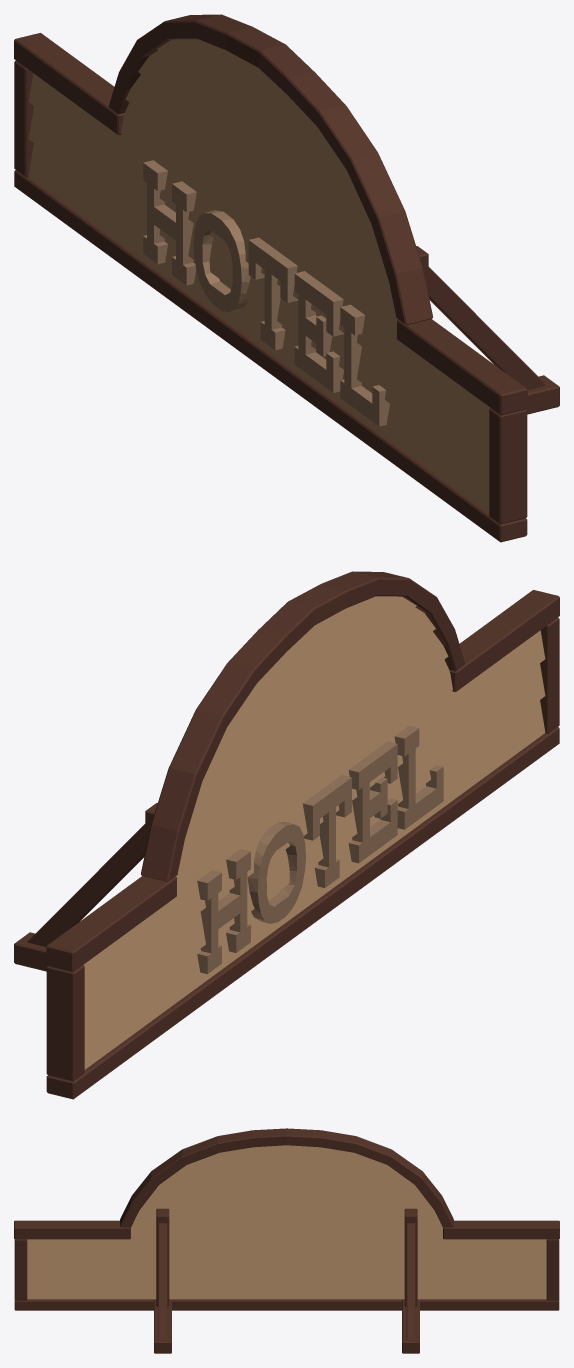
Rendered from hotel-sign-b.glb.
3 renders of one model, top to bottom at view 1: azimuth 30°, elevation 25°; view 2: azimuth 150°, elevation 25°; view 3: azimuth 270°, elevation 25°, orthographic. The views are drawn at different scales.
Parts seen in each view (by area): view 1: Hotel Sign B (×3); view 2: Hotel Sign B (×3); view 3: Hotel Sign B (×2).
Boxes of the visible parts, left/top/right/bottom form: Hotel Sign B (×3): left=14, top=14, right=559, bottom=542; Hotel Sign B (×3): left=14, top=571, right=559, bottom=1099; Hotel Sign B (×2): left=14, top=1128, right=559, bottom=1353.
Size of the model in its own units: 1.46 by 2.35 by 6.6.
